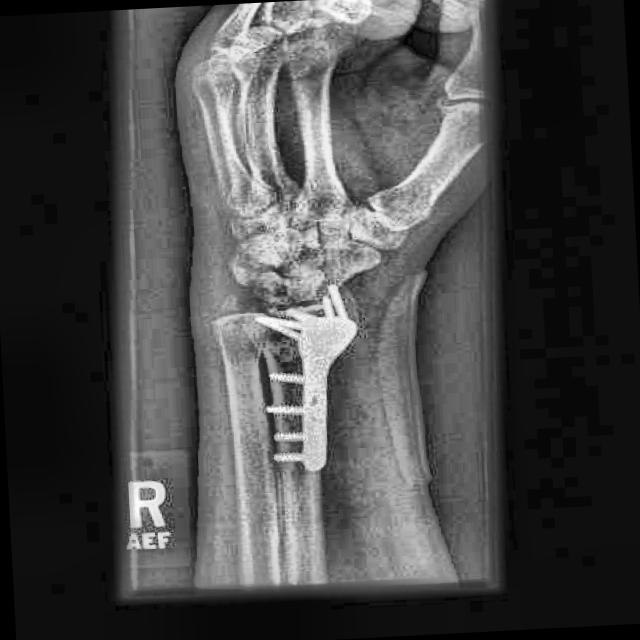wrist positive: (204, 312, 321, 377)
